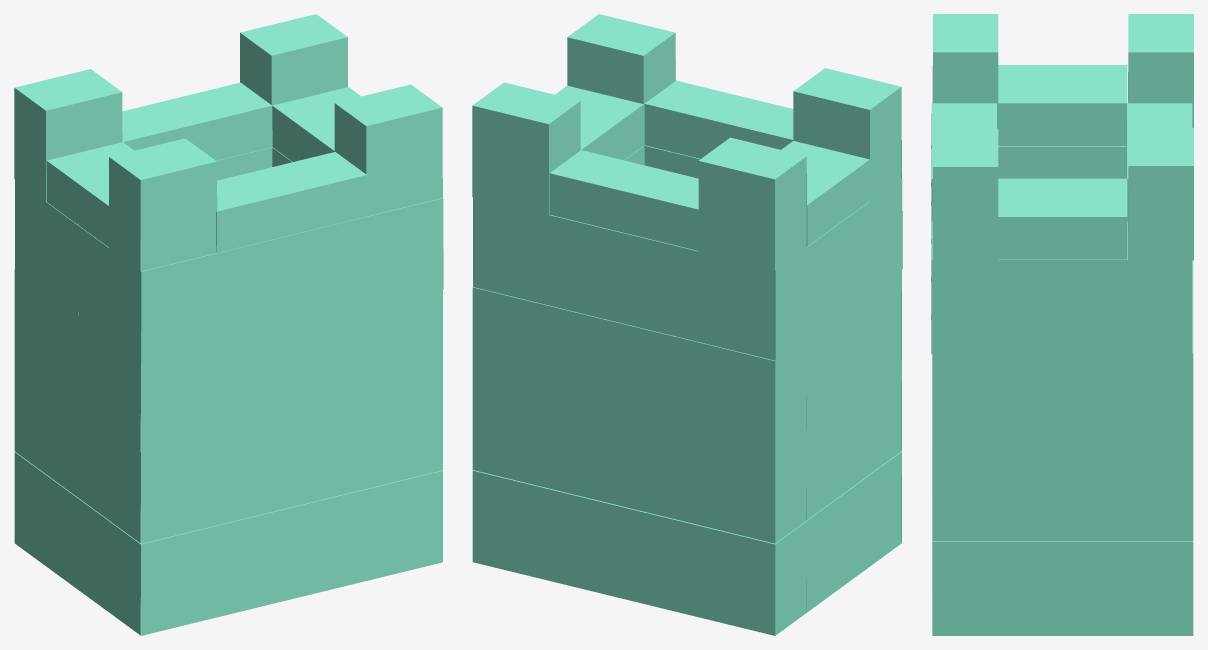
File: Castle_001.FBX
3 views of the same model, side by side, from view 1: azimuth 30°, elevation 25°; view 2: azimuth 150°, elevation 25°; view 3: azimuth 270°, elevation 25° (orthographic). The views are drawn at different scales.
Visible parts, largest first — view 1: brick066, brick068, brick004, brick052, brick020, brick036, brick065, brick067, brick016, brick064, brick008, brick012 (+29 smaller); view 2: brick065, brick067, brick001, brick017, brick033, brick049, brick066, brick068, brick045, brick013, brick037, brick009 (+29 smaller); view 3: brick068, brick067, brick064, brick062, brick045, brick061, brick016, brick015, brick014, brick013, brick030, brick029 (+16 smaller).
Part boxes in pixels (bbox=[...]): brick066: bbox=[109, 138, 217, 271]; brick068: bbox=[334, 84, 442, 215]; brick004: bbox=[109, 521, 216, 635]; brick052: bbox=[109, 241, 216, 363]; brick020: bbox=[109, 422, 216, 543]; brick036: bbox=[109, 332, 216, 452]; brick065: bbox=[14, 69, 122, 201]; brick067: bbox=[240, 14, 347, 105]; brick016: bbox=[366, 470, 442, 580]; brick064: bbox=[367, 198, 443, 308]; brick008: bbox=[216, 507, 291, 617]; brick012: bbox=[291, 489, 366, 598]; brick065: bbox=[698, 137, 806, 270]; brick067: bbox=[472, 82, 580, 215]; brick001: bbox=[698, 521, 806, 635]; brick017: bbox=[698, 429, 806, 543]; brick033: bbox=[698, 339, 806, 452]; brick049: bbox=[699, 247, 807, 361]; brick066: bbox=[793, 68, 901, 200]; brick068: bbox=[567, 14, 675, 146]; brick045: bbox=[472, 287, 548, 397]; brick013: bbox=[472, 470, 549, 580]; brick037: bbox=[623, 324, 699, 433]; brick009: bbox=[548, 489, 624, 598]; brick068: bbox=[932, 128, 998, 261]; brick067: bbox=[1128, 127, 1193, 260]; brick064: bbox=[931, 221, 996, 354]; brick062: bbox=[1062, 259, 1127, 354]; brick045: bbox=[1128, 314, 1193, 447]; brick061: bbox=[1127, 221, 1192, 354]; brick016: bbox=[932, 541, 997, 635]; brick015: bbox=[998, 541, 1063, 635]; brick014: bbox=[1063, 541, 1128, 635]; brick013: bbox=[1128, 541, 1193, 635]; brick030: bbox=[1063, 446, 1128, 540]; brick029: bbox=[1128, 446, 1193, 540].
Size of the model in its own units: 0.2725 by 0.3929 by 0.199.
